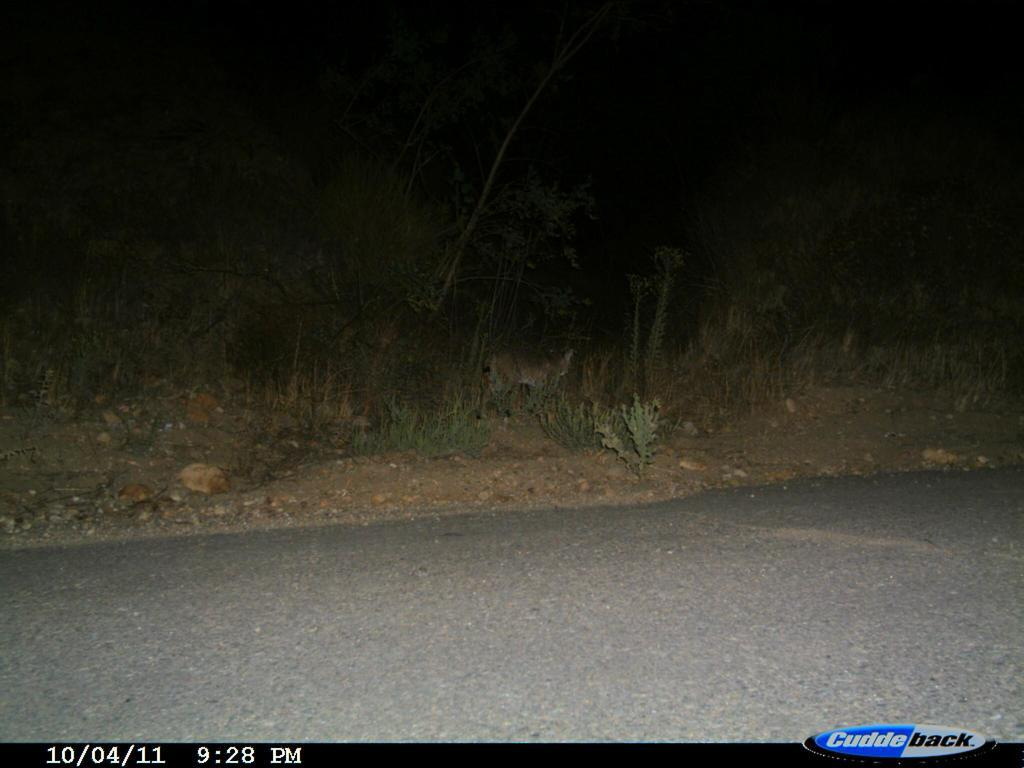bobcat: (473, 335, 589, 427)
